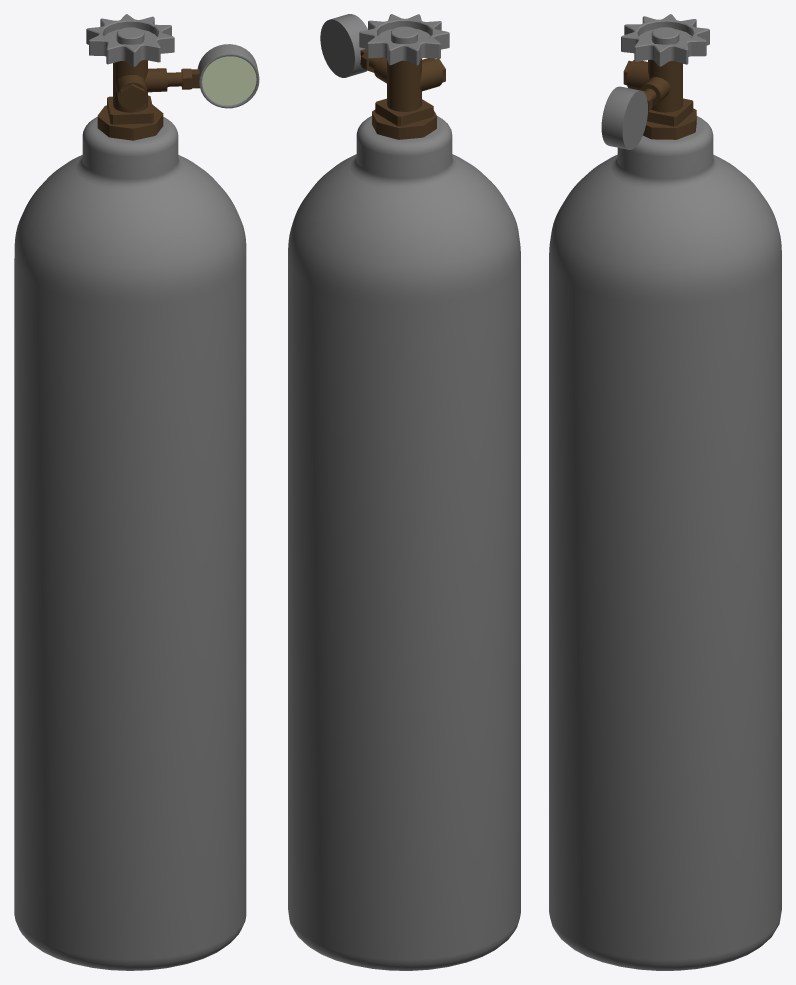
Rendered from pingzi.FBX.
The picture shows the model from 3 angles, left to right: view 1: azimuth 30°, elevation 25°; view 2: azimuth 150°, elevation 25°; view 3: azimuth 270°, elevation 25°; orthographic projection.
Parts seen in each view (by area): view 1: Obj3d66-691697-19-877, Obj3d66-691697-20-800; view 2: Obj3d66-691697-19-877, Obj3d66-691697-20-800; view 3: Obj3d66-691697-19-877, Obj3d66-691697-20-800.
Part boxes in pixels (x1,y1,x2,y2): Obj3d66-691697-19-877: (14, 117, 246, 970); Obj3d66-691697-20-800: (86, 14, 259, 140); Obj3d66-691697-19-877: (288, 116, 520, 970); Obj3d66-691697-20-800: (320, 14, 449, 139); Obj3d66-691697-19-877: (549, 116, 781, 970); Obj3d66-691697-20-800: (601, 14, 709, 149).
Size of the model in its own units: 191 by 792 by 187.
